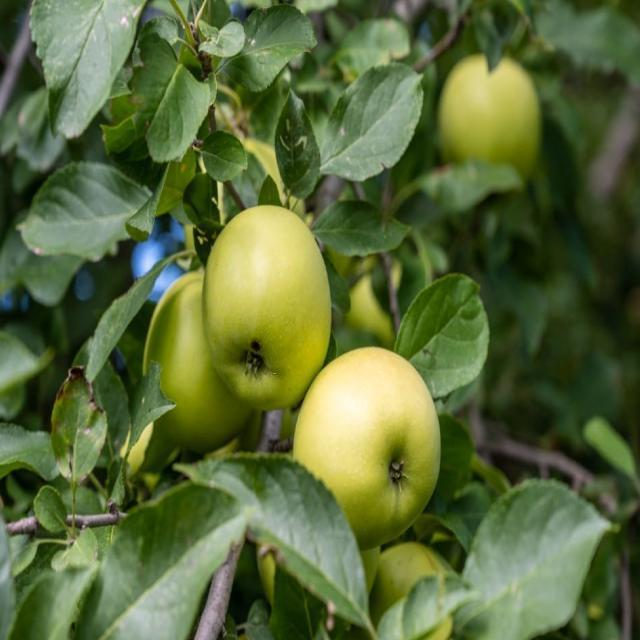Green Apple: (296, 357, 428, 524), (223, 209, 330, 382), (140, 260, 242, 439), (444, 46, 538, 180), (367, 540, 466, 640), (337, 250, 418, 342), (249, 543, 315, 624), (122, 383, 164, 478), (234, 138, 285, 201)
